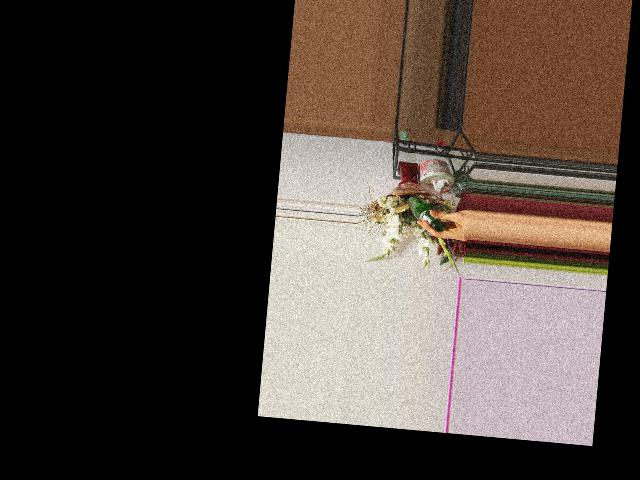beer: (405, 195, 447, 232)
